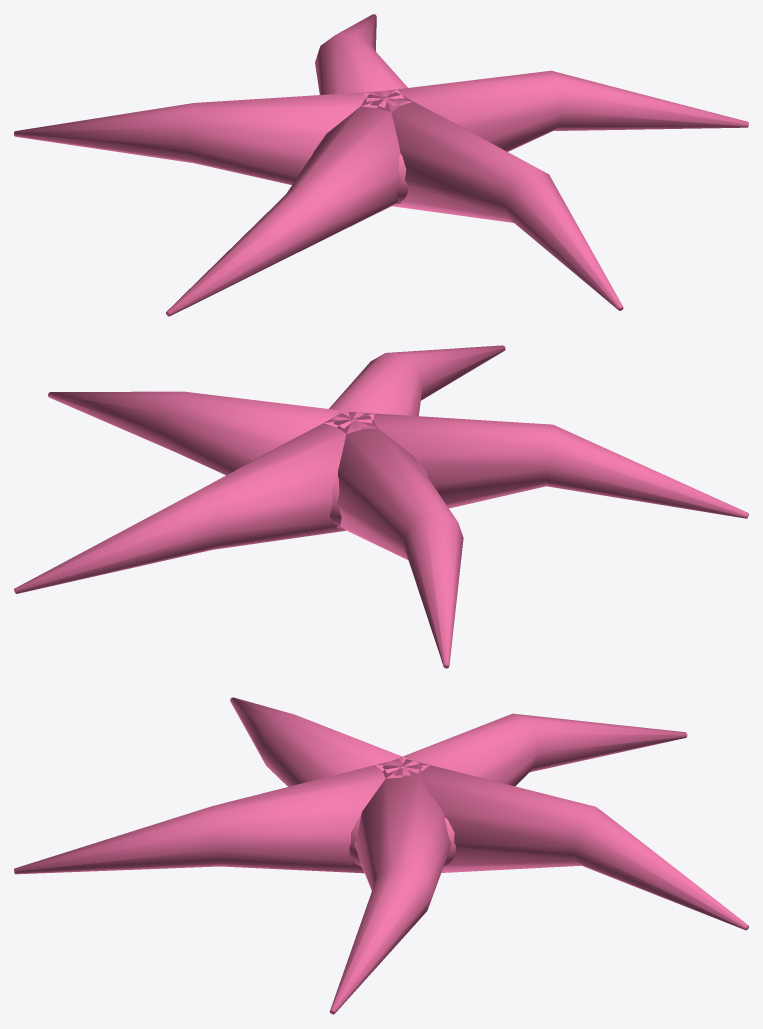
Rendered from underwater-reef-worlds-five-arm-star-c2c49894__7028.glb.
3 renders of one model, top to bottom at view 1: azimuth 30°, elevation 25°; view 2: azimuth 150°, elevation 25°; view 3: azimuth 270°, elevation 25°, orthographic. The views are drawn at different scales.
Visible parts, largest first — view 1: five-arm-star; view 2: five-arm-star; view 3: five-arm-star.
Part boxes in pixels (x1,y1,x2,y2): five-arm-star: (14,14,748,316); five-arm-star: (14,345,748,668); five-arm-star: (14,697,748,1014).
Size of the model in its own units: 1.04 by 0.1568 by 1.03.
